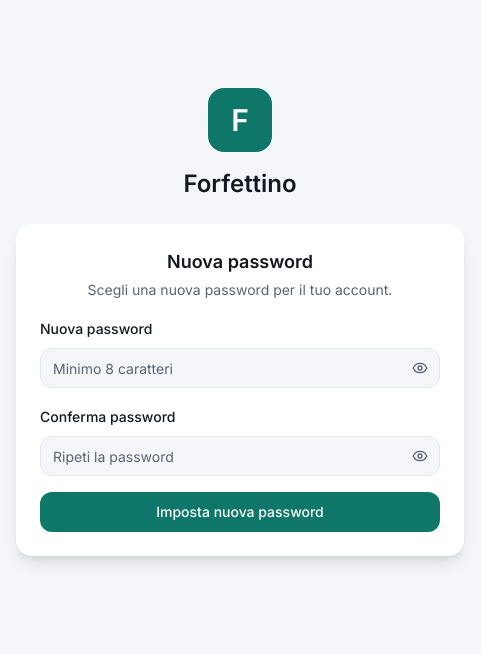
it: ResetPasswordPage › submits valid password and shows success
In the password field labelled "Nuova password": (240,368) 40,348 -> 440,388, type "StrongP1!"
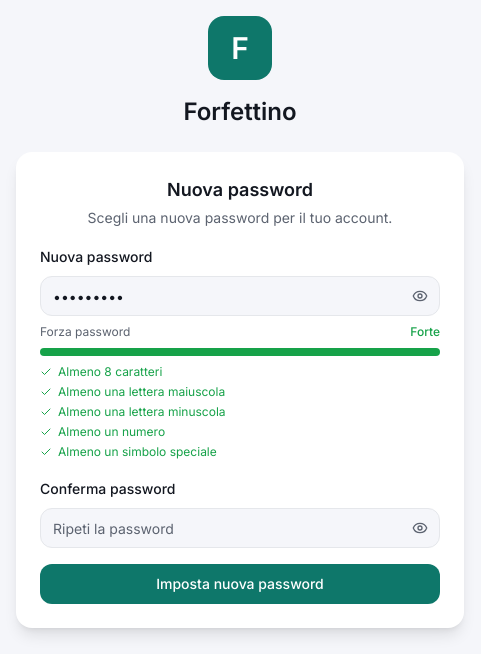
In the password field labelled "Conferma password": (240,528) 40,508 -> 440,548, type "StrongP1!"
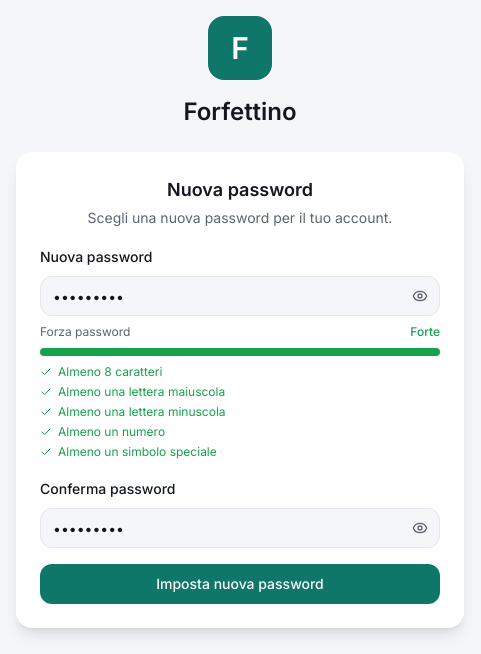
Click the button "Imposta nuova password": (240,584) 40,564 -> 440,604
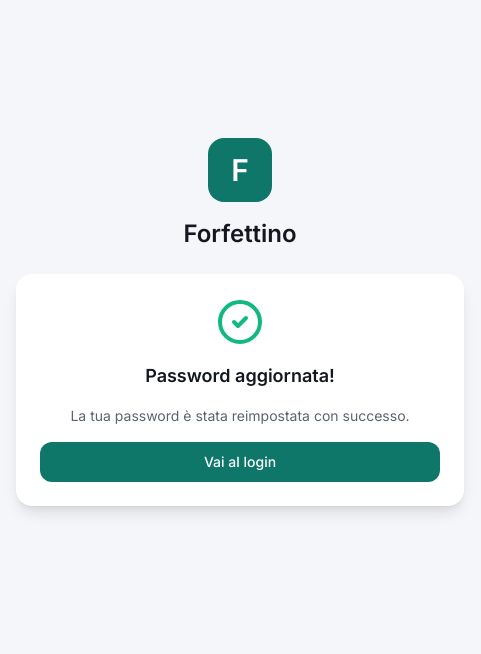
Check: the heading "Password aggiornata!" is shown, box 145,365 -> 335,386
Check: the button "Vai al login" is shown, box 40,442 -> 440,482
